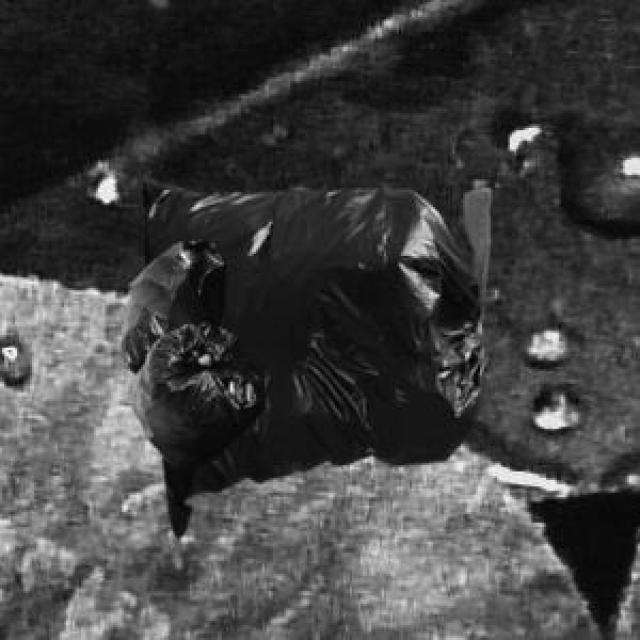miscellaneous trash: (143, 168, 486, 533), (117, 237, 262, 465)
